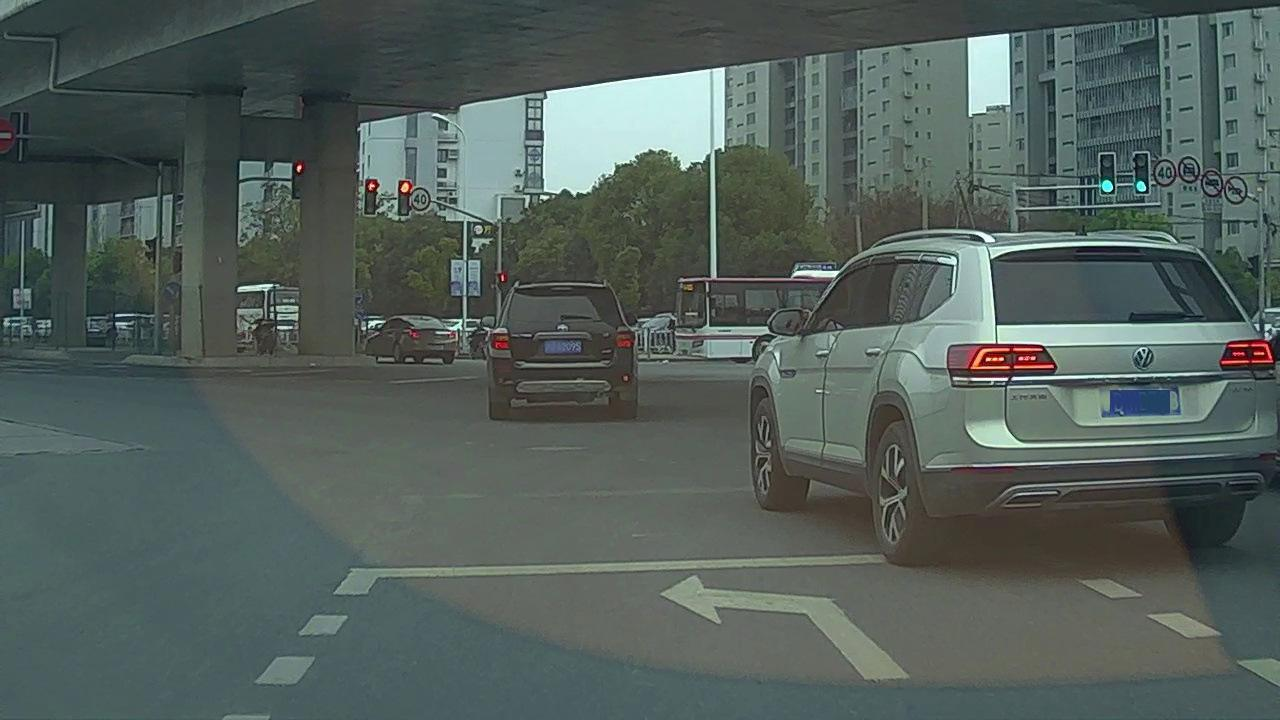traffic_light: (397, 180, 410, 214), (366, 179, 377, 213), (295, 162, 303, 197)
